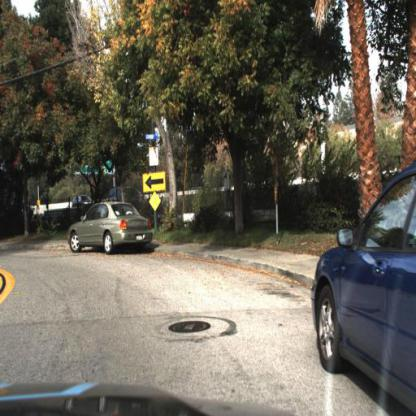car: (310, 162, 416, 416), (62, 198, 152, 255), (107, 183, 147, 203), (67, 191, 95, 206)
